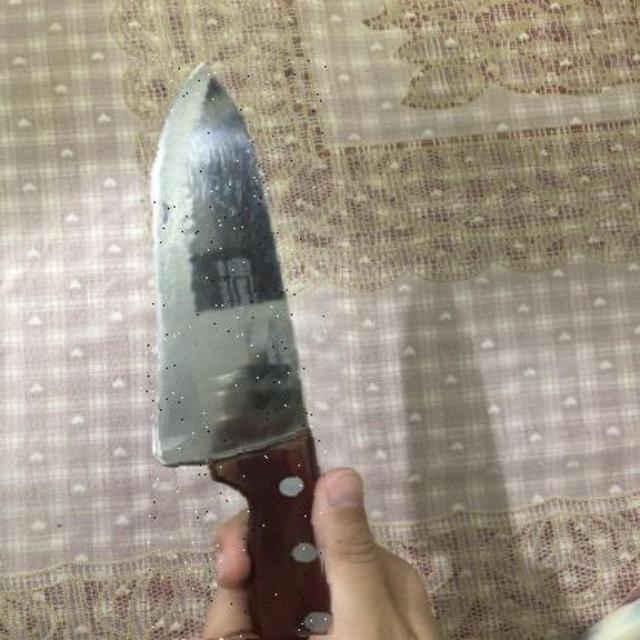Knife: (144, 58, 326, 640)
